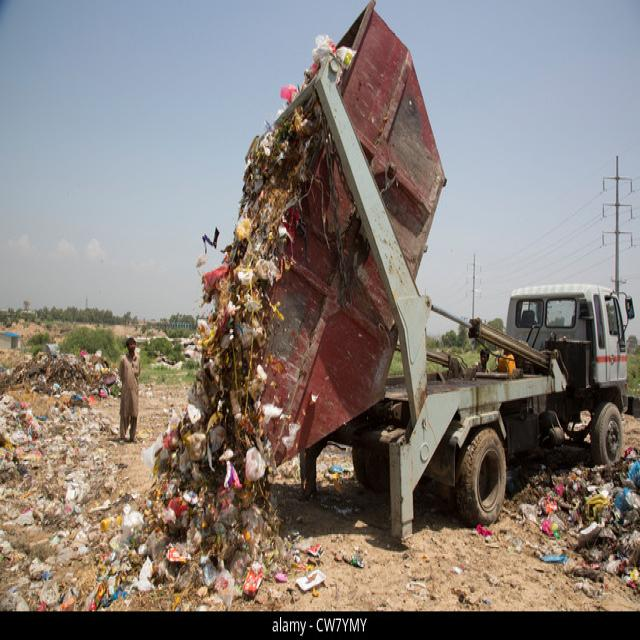trash: (163, 82, 334, 581), (6, 362, 125, 563), (542, 456, 636, 566)
